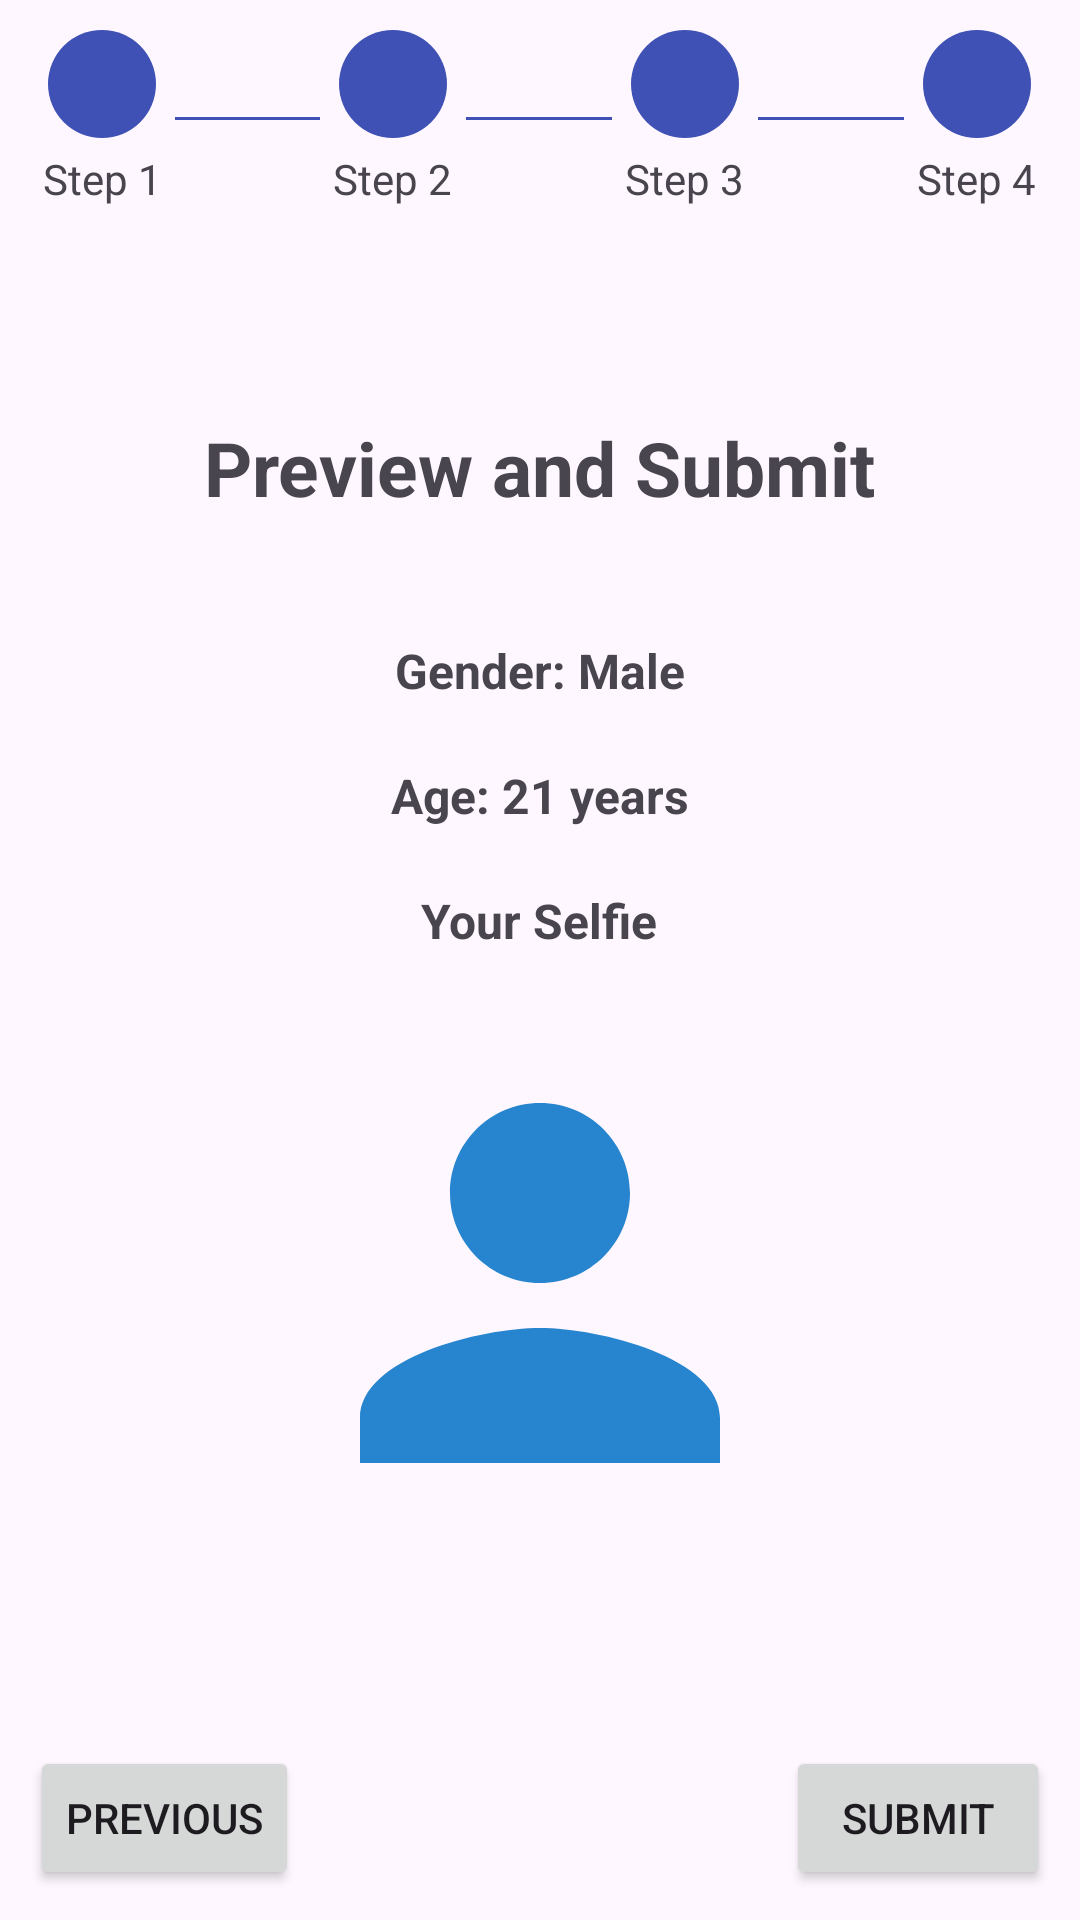

Named icons in this screenshot (1080 × 1920) and their bounding boxes, [x1,y1,x2,y2]:
person: [360,1103,720,1463]
